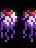eye: (0, 6, 18, 41), (20, 6, 36, 41)
